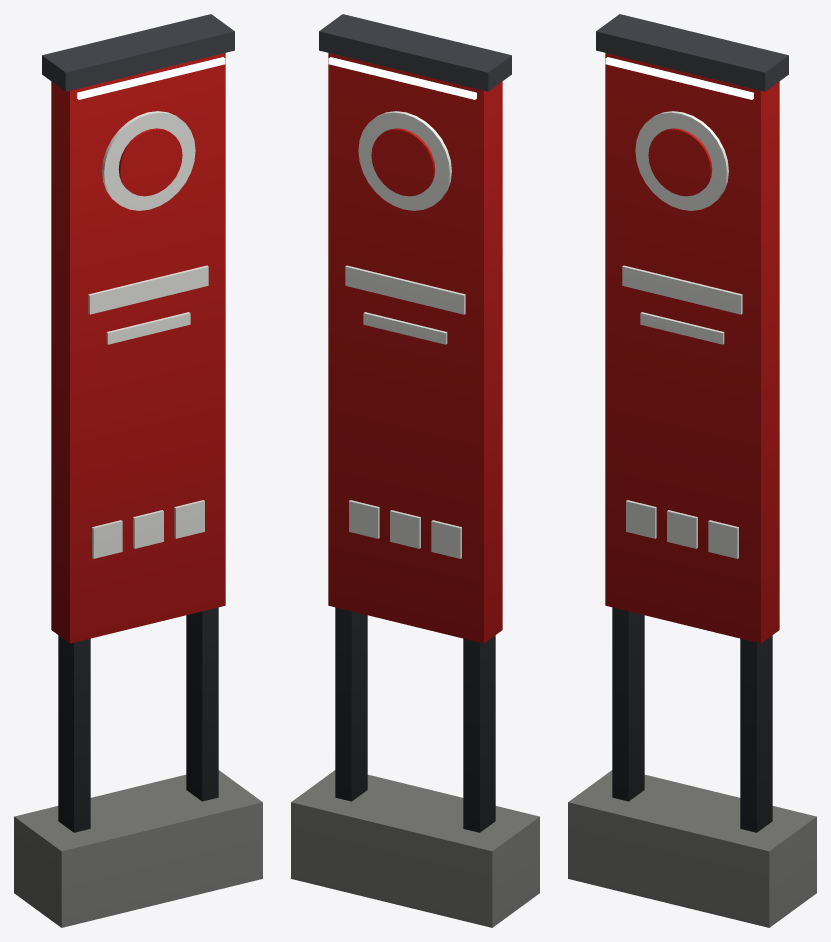
The model's file is Dealer_Sign.fbx.
The picture shows the model from 3 angles, left to right: view 1: azimuth 30°, elevation 25°; view 2: azimuth 150°, elevation 25°; view 3: azimuth 330°, elevation 25°; orthographic projection.
Parts seen in each view (by area): view 1: Dealer_Sign_LOD0; view 2: Dealer_Sign_LOD0; view 3: Dealer_Sign_LOD0.
Part boxes in pixels (x1=…): Dealer_Sign_LOD0: x1=14, y1=14, x2=262, y2=927; Dealer_Sign_LOD0: x1=291, y1=14, x2=539, y2=927; Dealer_Sign_LOD0: x1=568, y1=14, x2=816, y2=927.
Size of what is drawn, in the model's own units: 2.2 by 8.8 by 0.9.
1 material, 1 textured.
